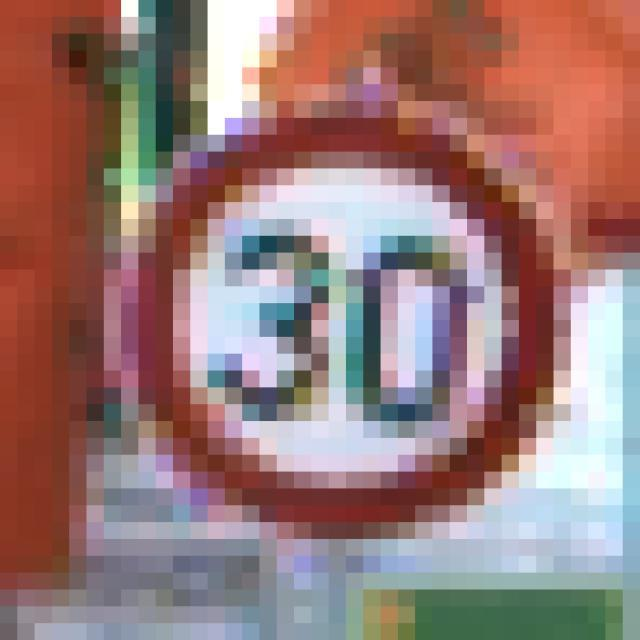Speed Limit -30-: (78, 92, 545, 530)
